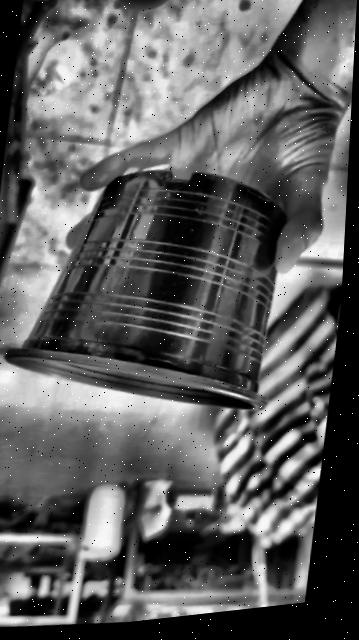pot: (6, 169, 282, 408)
